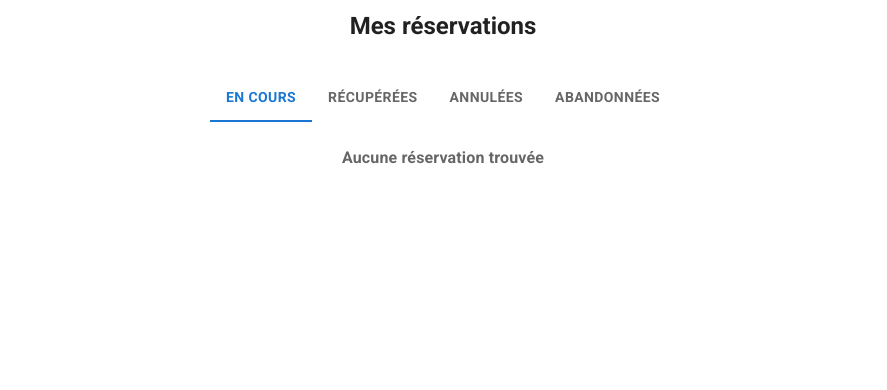
Test: ReservationHistoryPage › sorts reservations by descending reservation date
Click the tab "Annulées" at (486, 98), box [434, 74, 539, 122]
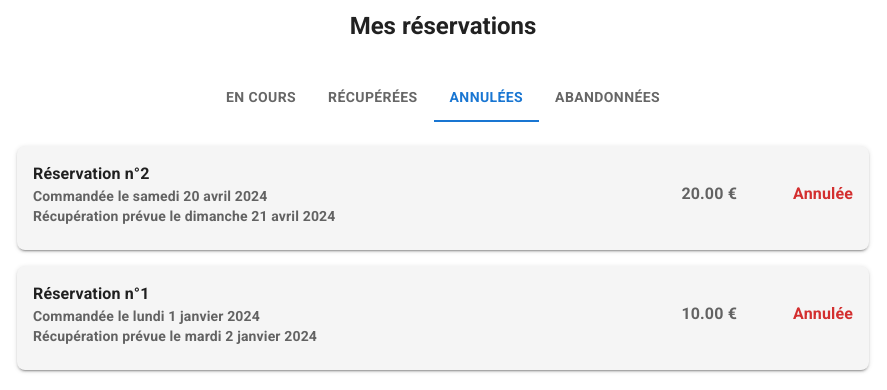
Result: the text "Réservation n°2" is shown at [33, 164, 150, 183]
Result: the text "Réservation n°1" is shown at [33, 284, 150, 303]
